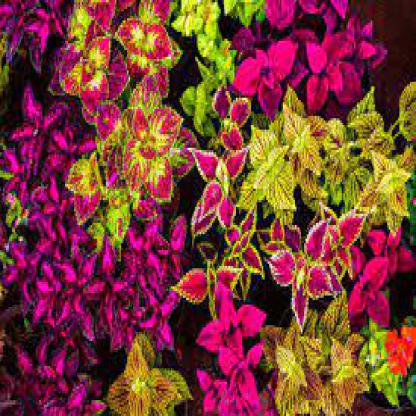Bunga Coleus: (28, 21, 402, 392)
